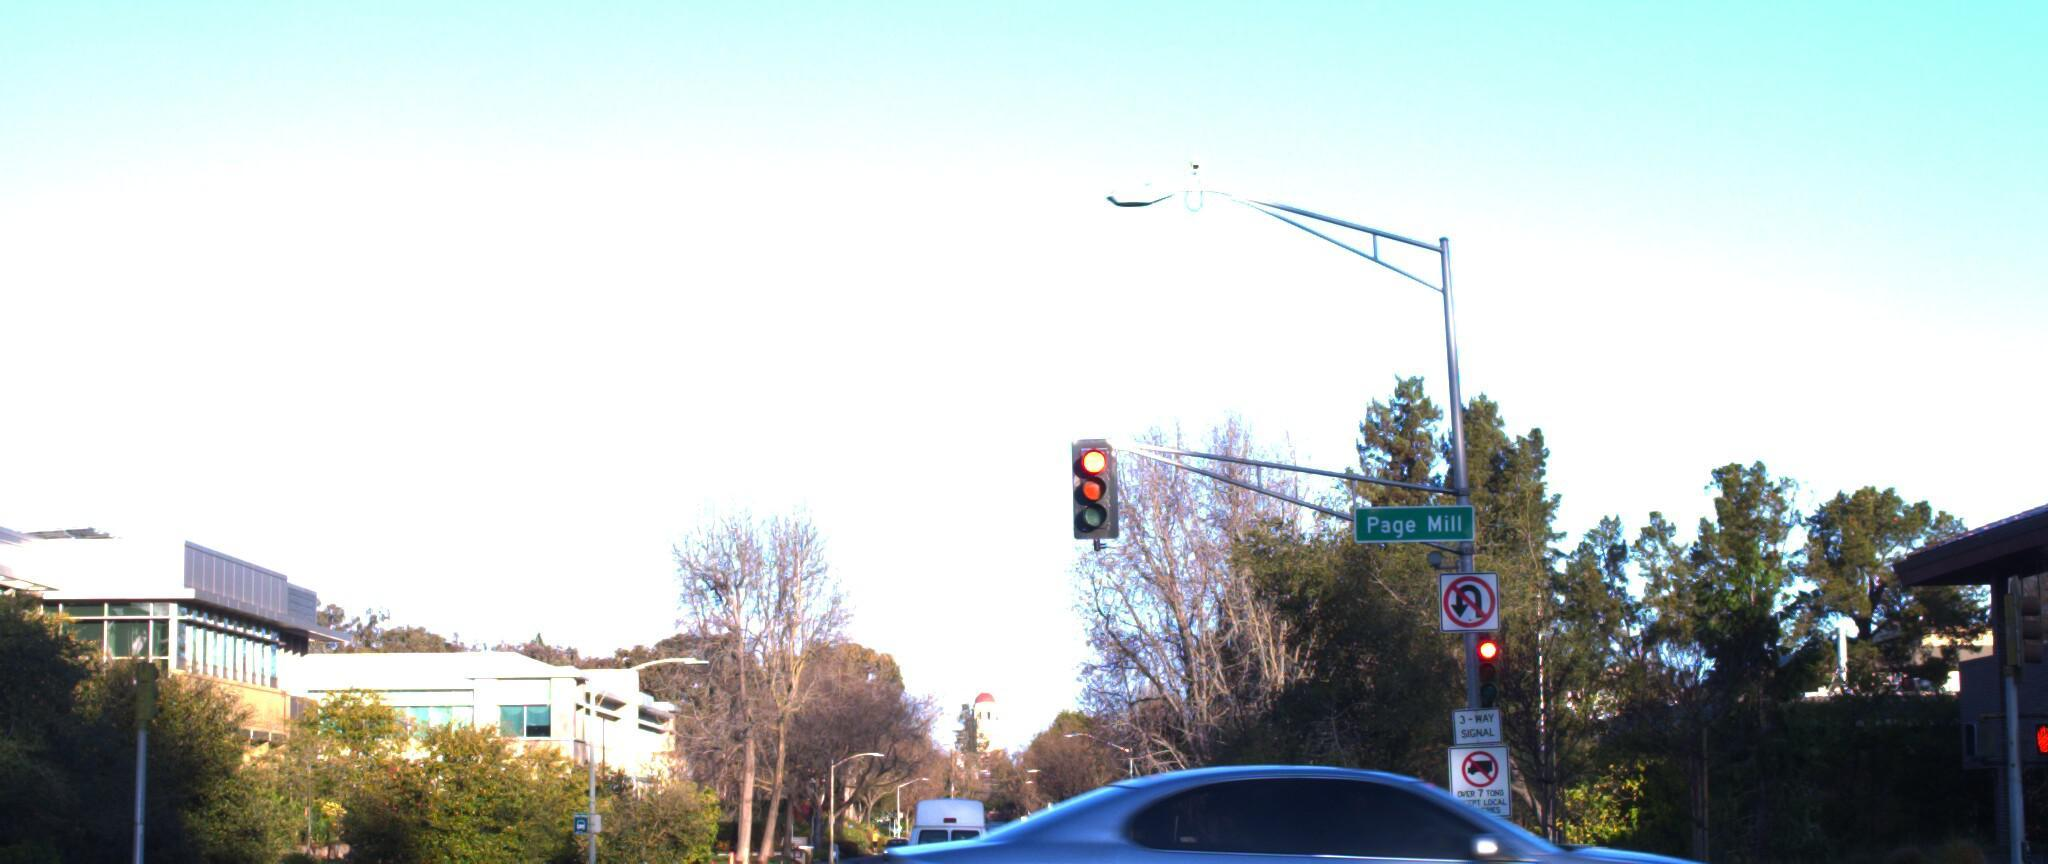car: (856, 714, 1843, 864), (884, 780, 1006, 864)
